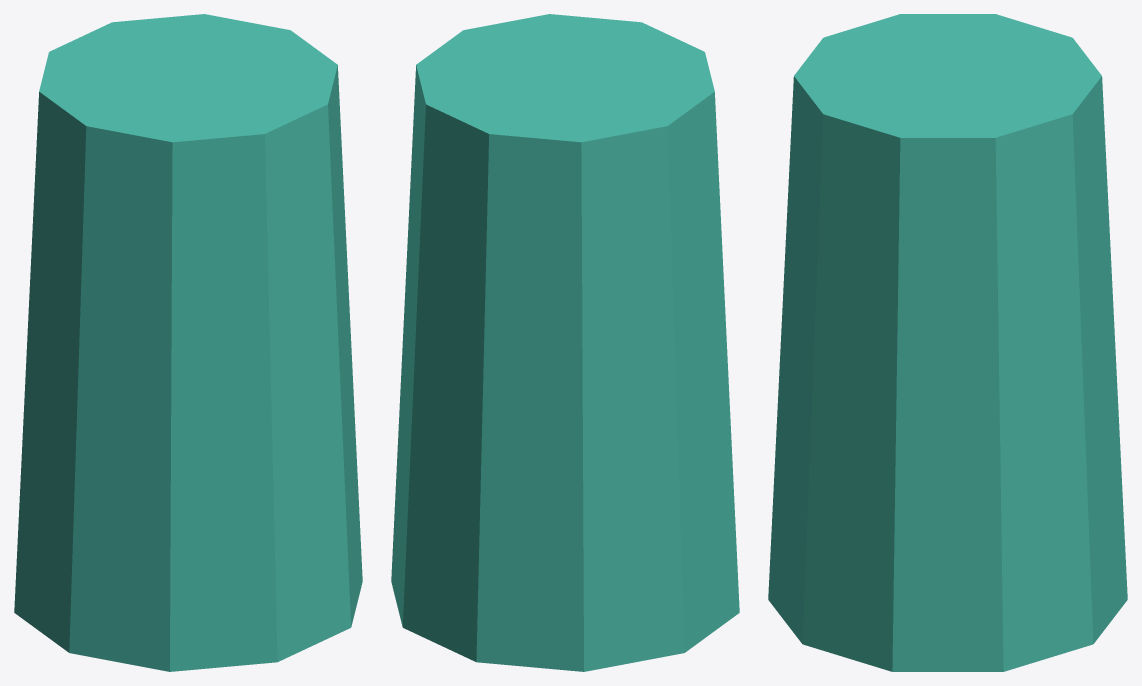
File: Skate_Bin.fbx
3 renders of one model, left to right at view 1: azimuth 30°, elevation 25°; view 2: azimuth 150°, elevation 25°; view 3: azimuth 270°, elevation 25°, orthographic.
Parts seen in each view (by area): view 1: Bin; view 2: Bin; view 3: Bin.
Boxes of the visible parts, x1=… form: Bin: x1=14, y1=14, x2=362, y2=671; Bin: x1=391, y1=14, x2=739, y2=671; Bin: x1=768, y1=14, x2=1127, y2=671.
Size of the model in its own units: 0.5326 by 0.9 by 0.56.
